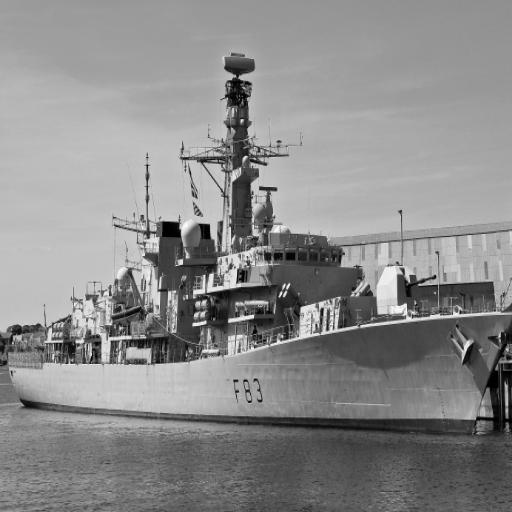Fragata: (7, 45, 512, 445)
